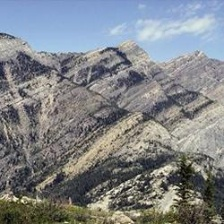neutral: (1, 11, 221, 224)
